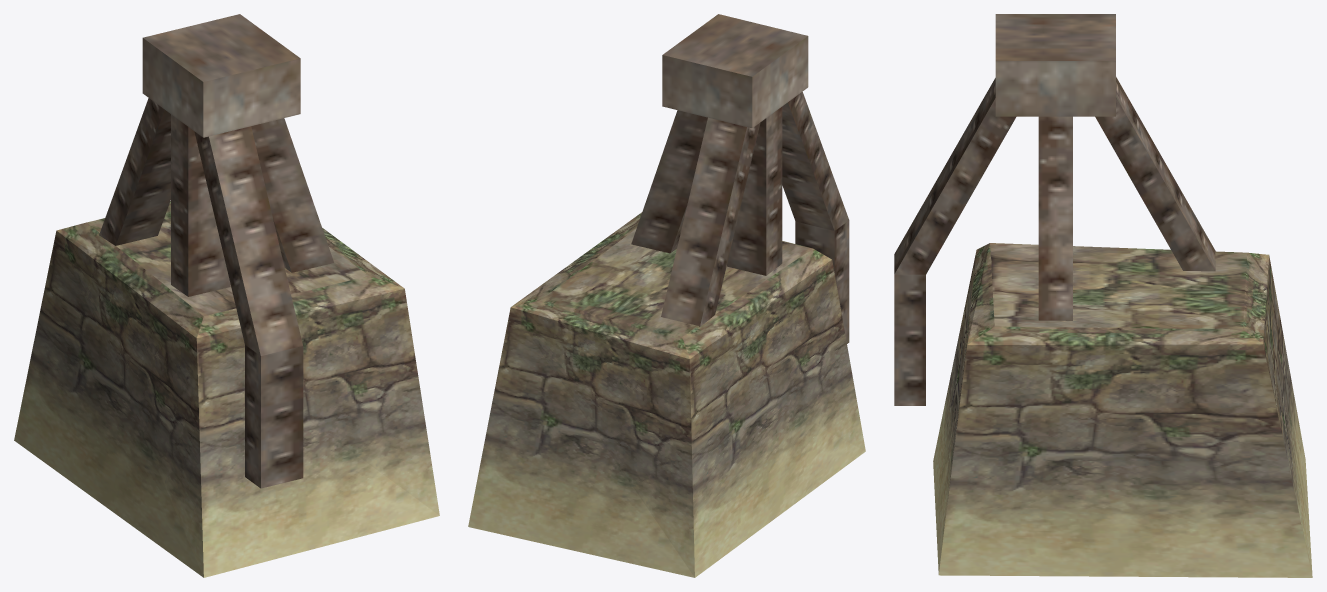
The model's file is C3SMBDGMET_ENDR.obj.
The picture shows the model from 3 angles, left to right: view 1: azimuth 30°, elevation 25°; view 2: azimuth 150°, elevation 25°; view 3: azimuth 270°, elevation 25°; orthographic projection. The views are drawn at different scales.
Parts seen in each view (by area): view 1: Node 0; view 2: Node 0; view 3: Node 0.
Part boxes in pixels (<box>): Node 0: <box>14,14,439,577</box>; Node 0: <box>468,14,865,577</box>; Node 0: <box>894,14,1312,577</box>.
Size of the model in its own units: 5.95 by 10.94 by 8.96.
Materials: 2 (2 with a texture image).
